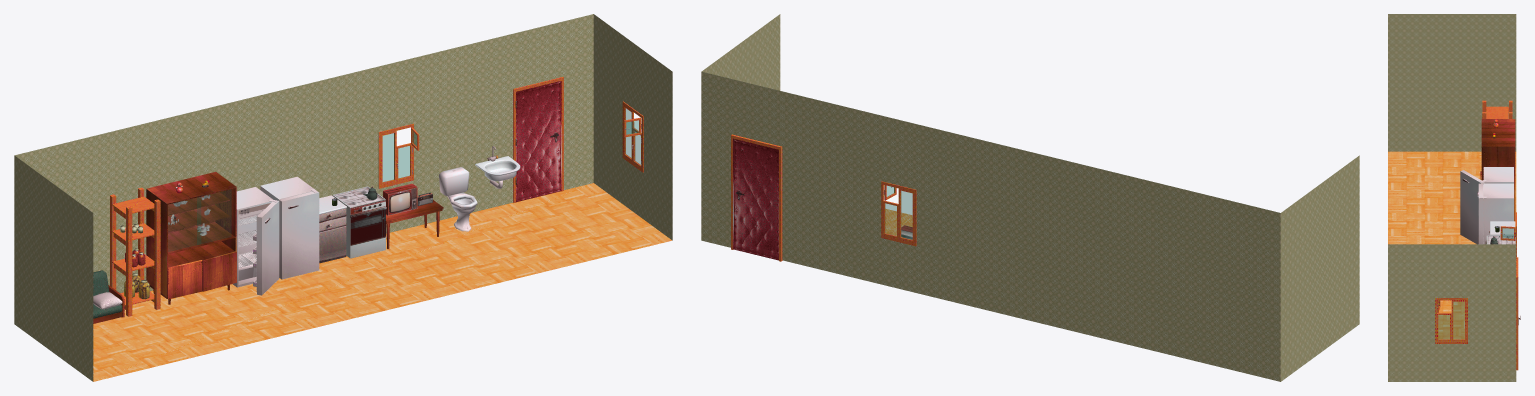
The model's file is post-soviet_furniture_set_with_dithering.glb.
3 renders of one model, left to right at view 1: azimuth 30°, elevation 25°; view 2: azimuth 150°, elevation 25°; view 3: azimuth 270°, elevation 25°, orthographic. The views are drawn at different scales.
Visible parts, largest first — view 1: room, closet, door, fridge, fridge.001, shelf, oven, main windows.001, kitchen shelf, toilet, main windows, sink (+4 smaller); view 2: room, door, main windows.001, jamb door; view 3: room, fridge.001, closet, fridge, main windows, shelf, jamb door, kitchen shelf, window leaf.001, oven.
Boxes of the visible parts, box(x1,y1,x2,y2) form: room: box(14, 14, 672, 381); closet: box(146, 172, 236, 304); door: box(515, 81, 561, 202); fridge: box(260, 176, 319, 279); fridge.001: box(232, 187, 279, 295); shelf: box(110, 187, 160, 316); oven: box(332, 186, 386, 258); main windows.001: box(378, 123, 413, 188); kitchen shelf: box(319, 195, 346, 263); toilet: box(439, 167, 477, 231); main windows: box(622, 101, 643, 172); sink: box(475, 146, 520, 188); room: box(701, 14, 1359, 381); door: box(733, 138, 778, 260); main windows.001: box(881, 181, 916, 246); jamb door: box(731, 134, 782, 261); room: box(1388, 14, 1516, 381); fridge.001: box(1460, 167, 1513, 244); closet: box(1480, 119, 1515, 221); fridge: box(1477, 183, 1513, 244); main windows: box(1435, 298, 1467, 343); shelf: box(1482, 100, 1512, 118); jamb door: box(1516, 257, 1518, 370); kitchen shelf: box(1489, 221, 1515, 235); window leaf.001: box(1500, 226, 1515, 240); oven: box(1485, 235, 1515, 244).
Size of the model in its own units: 18.05 by 5.04 by 4.39.
12 materials, 11 textured.
